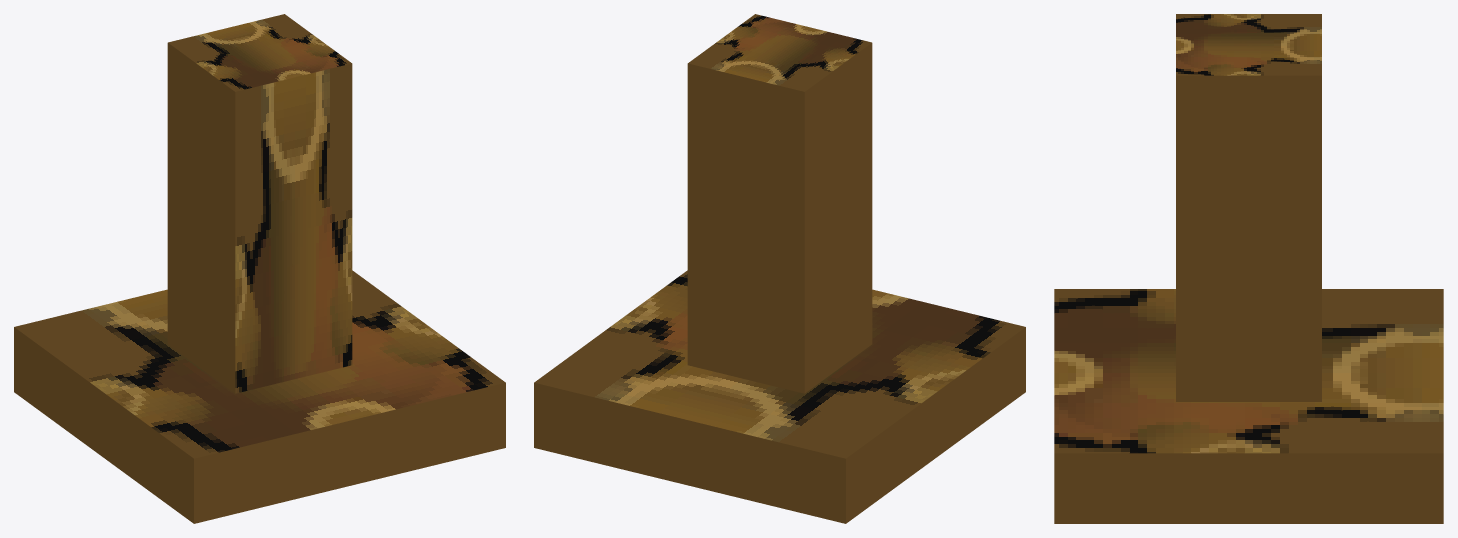
File: Building_Burnbong.glb
The picture shows the model from 3 angles, left to right: view 1: azimuth 30°, elevation 25°; view 2: azimuth 150°, elevation 25°; view 3: azimuth 270°, elevation 25°; orthographic projection. The views are drawn at different scales.
Visible parts, largest first — view 1: Burnbong; view 2: Burnbong; view 3: Burnbong.
Boxes of the visible parts, x1,y1,x2,y2 form: Burnbong: (14,14,505,523); Burnbong: (534,14,1025,523); Burnbong: (1054,14,1443,523).
Size of the model in its own units: 0.8 by 0.9 by 0.8.
Materials: 1 (1 with a texture image).
